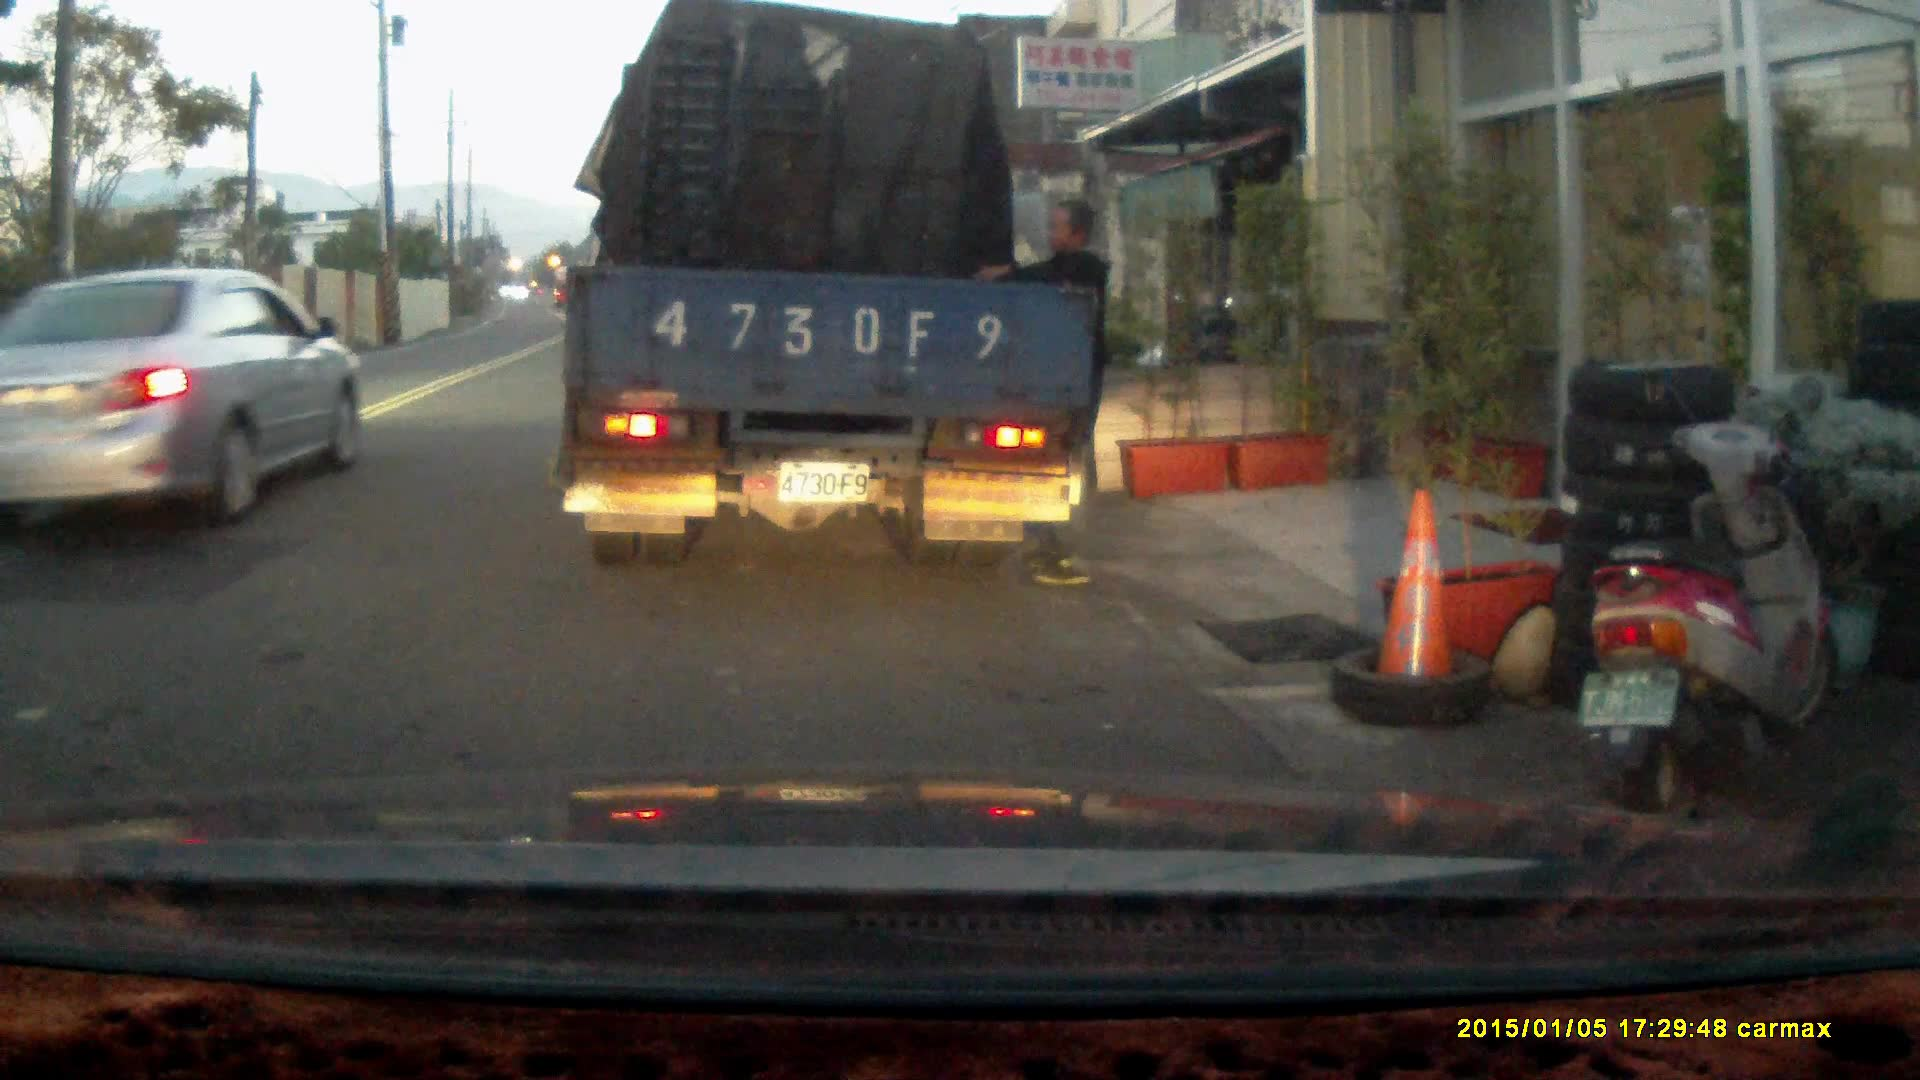pedestrian: (979, 198, 1111, 583)
vehicle: (565, 23, 1097, 572), (1, 265, 381, 539)
